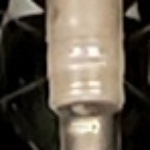bottle: (26, 46, 133, 129)
